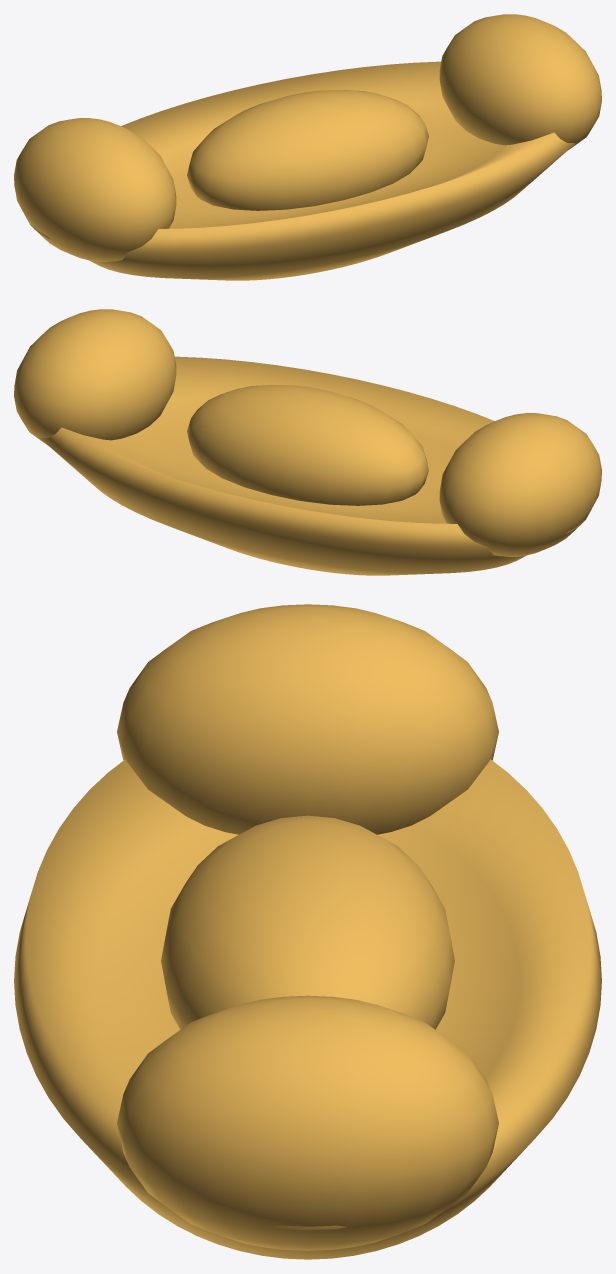
Rendered from prop-gold-ingot.glb.
3 renders of one model, top to bottom at view 1: azimuth 30°, elevation 25°; view 2: azimuth 150°, elevation 25°; view 3: azimuth 270°, elevation 25°, orthographic. The views are drawn at different scales.
Parts seen in each view (by area): view 1: prop-gold-ingot; view 2: prop-gold-ingot; view 3: prop-gold-ingot.
Part boxes in pixels (box(x1,y1,x2,y2)): prop-gold-ingot: box(14, 14, 601, 280); prop-gold-ingot: box(14, 309, 601, 575); prop-gold-ingot: box(14, 604, 601, 1259).
Bounding box in the file's own units: 1.64 × 0.46 × 0.8.
